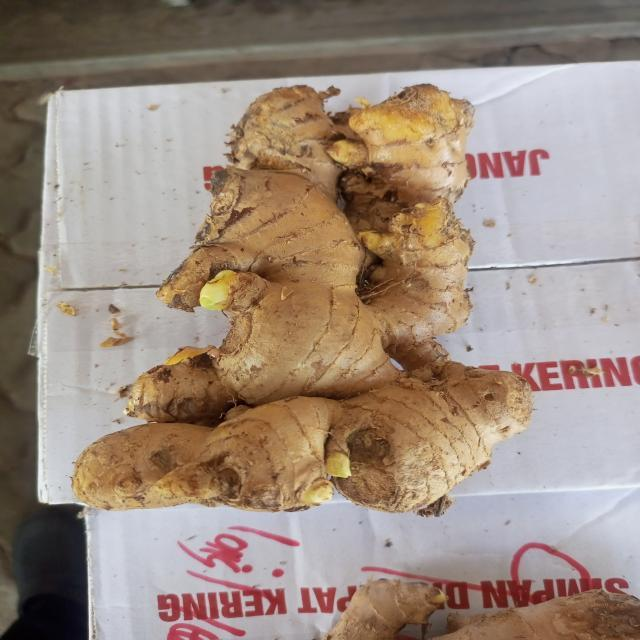ginger: (84, 86, 526, 516)
